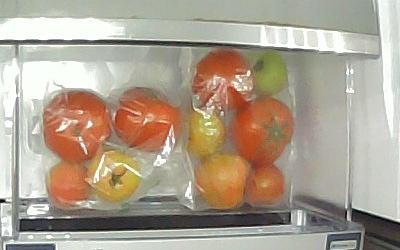tomato_vinyl: (43, 89, 114, 161), (231, 98, 296, 165), (115, 87, 182, 152), (192, 47, 252, 110), (194, 152, 250, 210), (89, 148, 142, 204), (43, 160, 96, 211), (186, 111, 227, 155), (246, 164, 287, 206), (251, 52, 290, 95)
